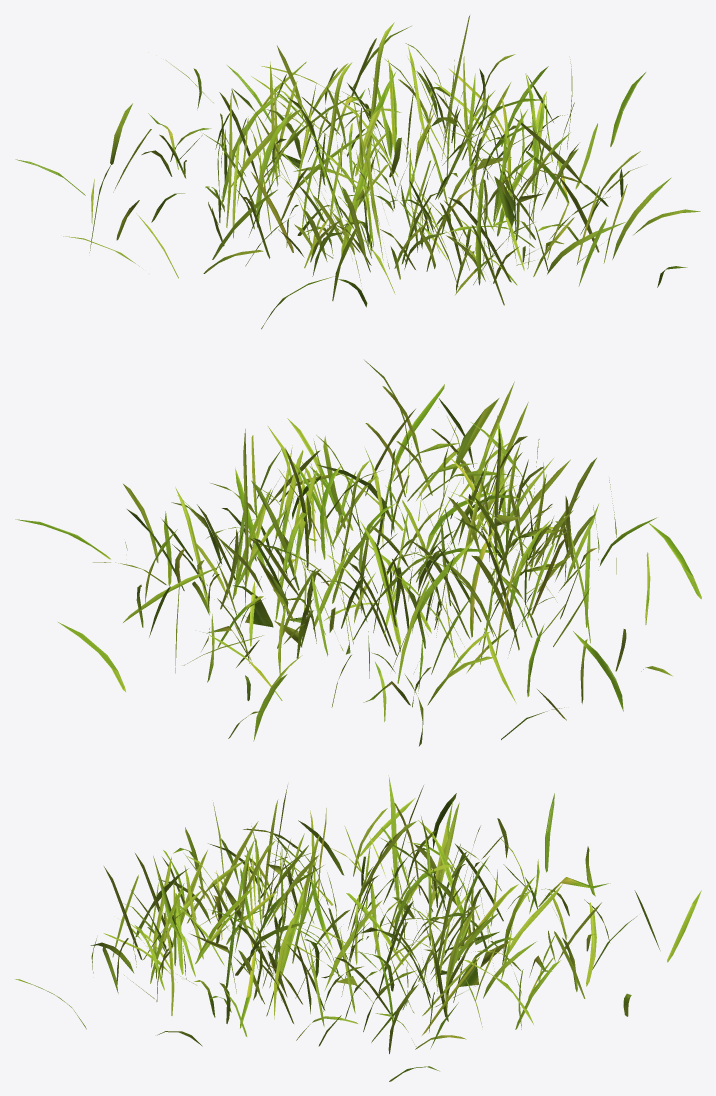
File: grass_b.glb
3 views of the same model, one above another, from view 1: azimuth 30°, elevation 25°; view 2: azimuth 150°, elevation 25°; view 3: azimuth 270°, elevation 25° (orthographic). The views are drawn at different scales.
Parts seen in each view (by area): view 1: grass_b.glb; view 2: grass_b.glb; view 3: grass_b.glb.
Boxes of the visible parts, x1,y1,x2,y2 form: grass_b.glb: [15, 15, 700, 329]; grass_b.glb: [15, 360, 701, 746]; grass_b.glb: [15, 775, 701, 1081].
Size of the model in its own units: 0.588 by 0.1566 by 0.6033.
1 material, 1 textured.
